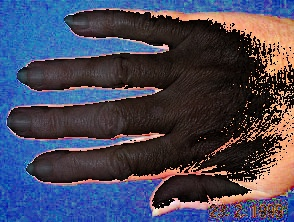vitiligo: (2, 8, 294, 222)
